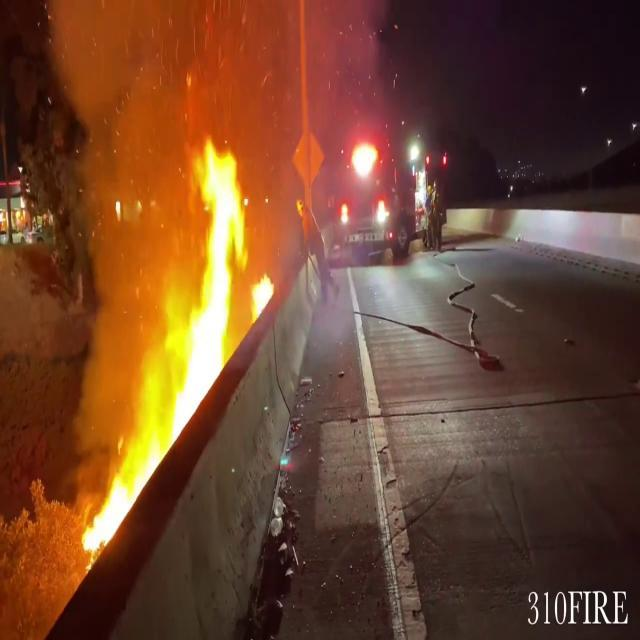Fire: (163, 127, 264, 444), (80, 394, 164, 564)
Smoke: (54, 0, 193, 341)
